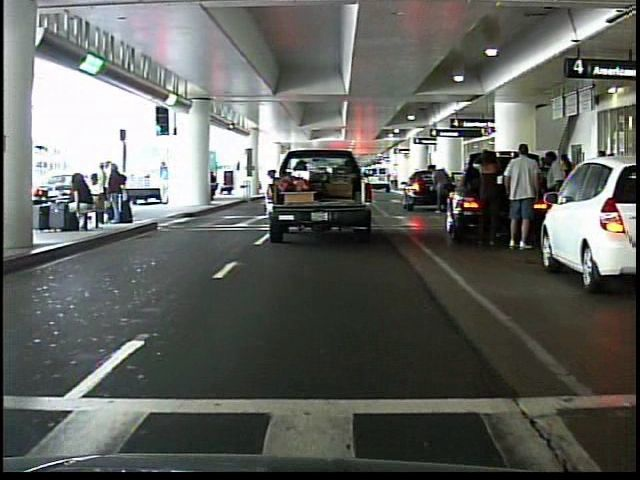person: (501, 140, 541, 251), (468, 140, 506, 254), (539, 144, 569, 253), (425, 157, 452, 217), (157, 159, 173, 204)
